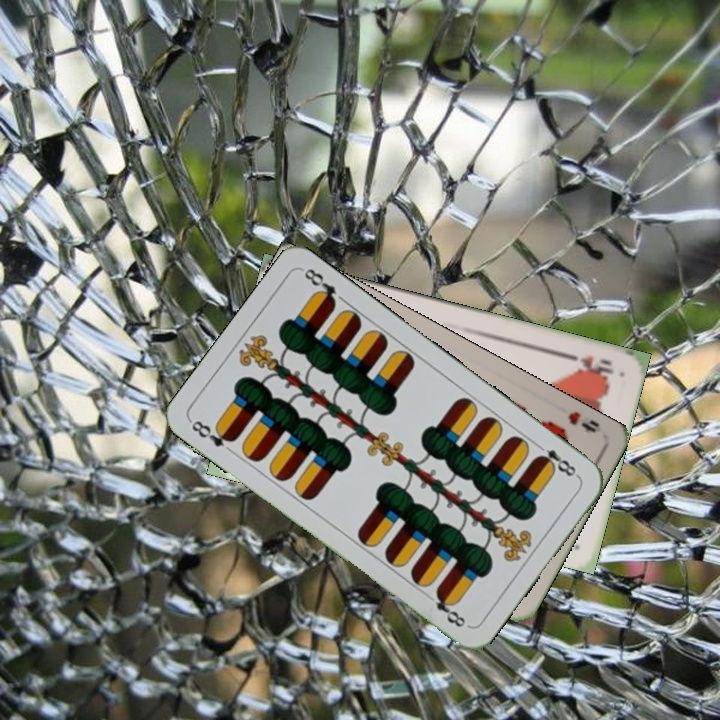E8: (531, 439, 582, 480), (186, 416, 239, 450)
H9: (564, 407, 602, 436)
HO: (562, 348, 616, 376)
